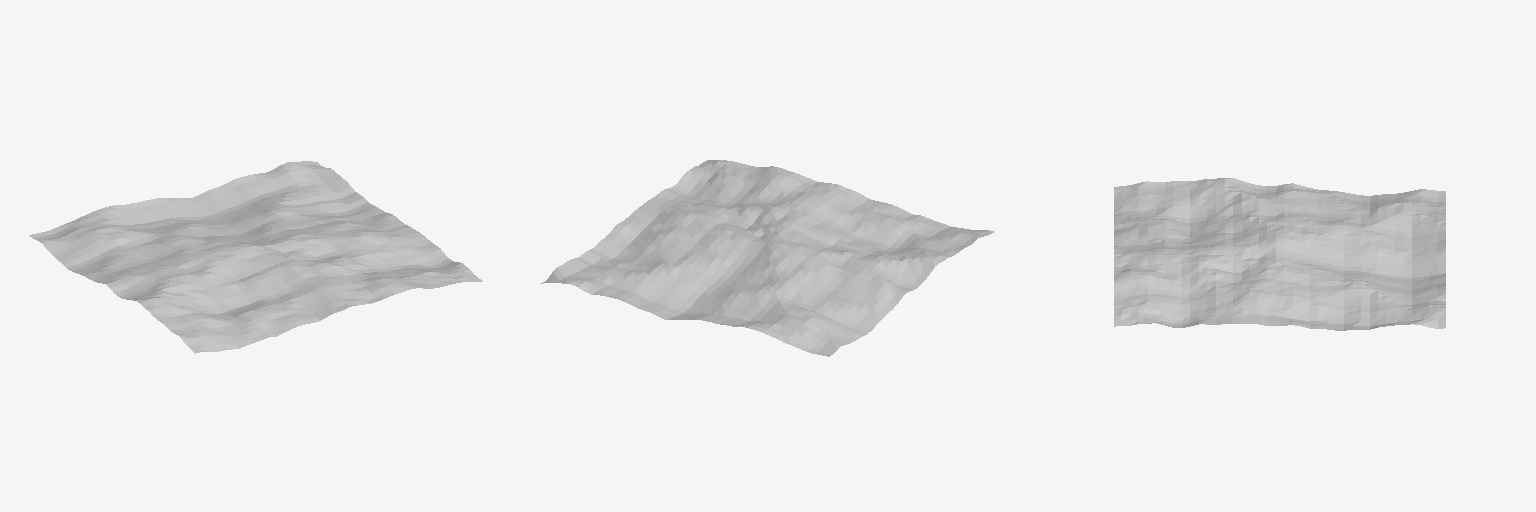
Rendered from terrain.obj.
3 views of the same model, side by side, from view 1: azimuth 30°, elevation 25°; view 2: azimuth 150°, elevation 25°; view 3: azimuth 270°, elevation 25° (orthographic).
Parts seen in each view (by area): view 1: default; view 2: default; view 3: default.
Part boxes in pixels (x1,y1,x2,y2): default: (29,161,482,353); default: (541,160,993,356); default: (1114,178,1445,330).
Bounding box in the file's own units: 80 × 6.92 × 80.